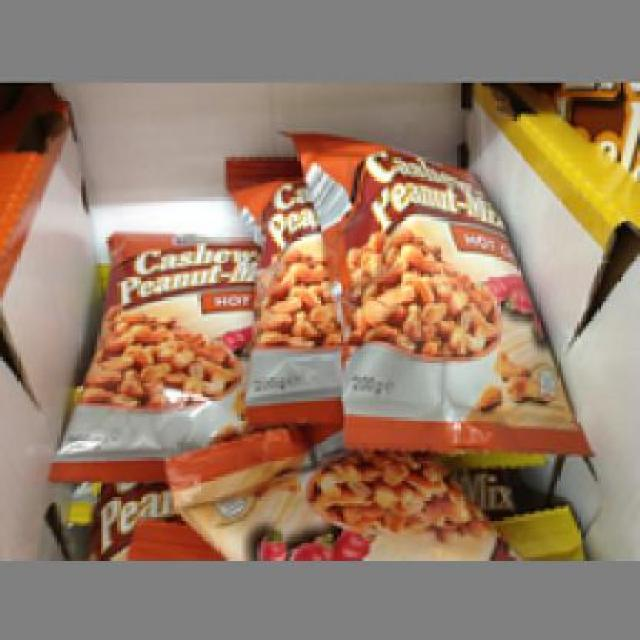Nuts: (282, 126, 588, 452), (51, 228, 260, 472), (220, 149, 337, 420)
